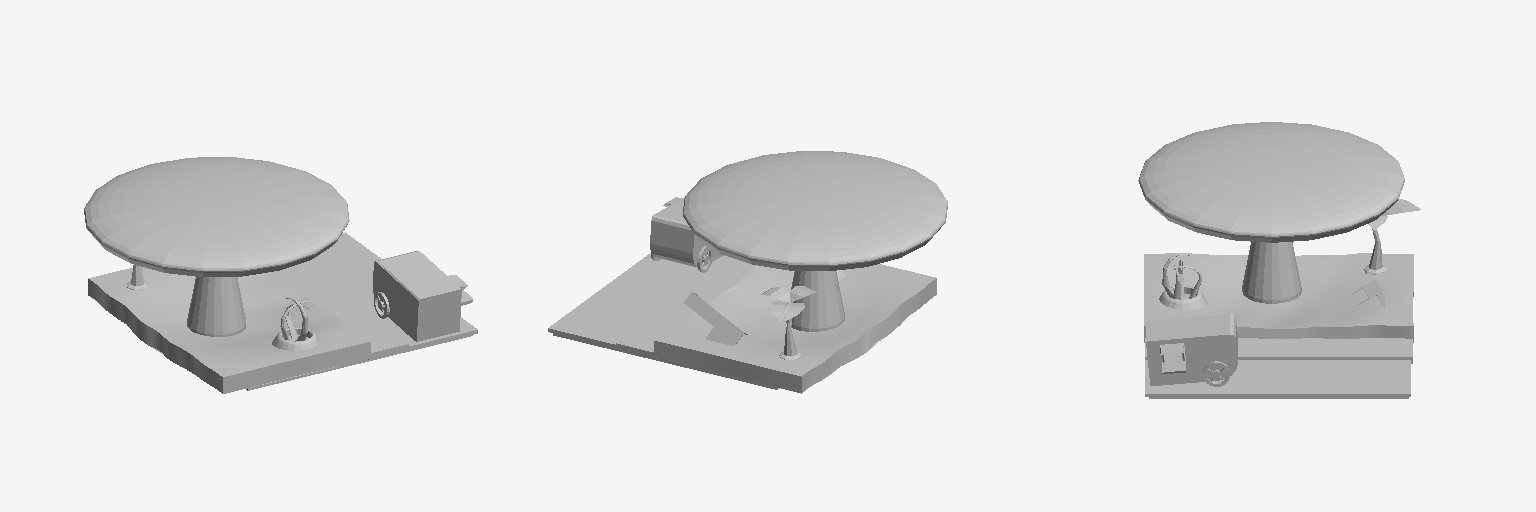
3 renders of one model, left to right at view 1: azimuth 30°, elevation 25°; view 2: azimuth 150°, elevation 25°; view 3: azimuth 270°, elevation 25°, orthographic.
Parts seen in each view (by area): view 1: bigmushroomfinalys:pCylinder2, pPlane1, CamperFInalYS:pCube2, pasted__pCube2 group, pCube2, TENTACLEFINALYS:pCylinder2; view 2: bigmushroomfinalys:pCylinder2, pPlane1, pasted__pCube2 group, pCube2, CamperFInalYS:pCube2, Bigleaftreefinal:pCylinder2, FINALSCENETABLE:pCube1, pCube1; view 3: bigmushroomfinalys:pCylinder2, pPlane1, pasted__pCube2 group, CamperFInalYS:pCube2, pCube2, Bigleaftreefinal:pCylinder2, TENTACLEFINALYS:pCylinder2.
Part boxes in pixels (bbox=[...]): bigmushroomfinalys:pCylinder2: bbox=[84, 157, 349, 336]; pPlane1: bbox=[88, 267, 370, 393]; CamperFInalYS:pCube2: bbox=[373, 251, 473, 341]; pasted__pCube2 group: bbox=[301, 232, 477, 350]; pCube2: bbox=[275, 264, 408, 359]; TENTACLEFINALYS:pCylinder2: bbox=[272, 328, 319, 350]; bigmushroomfinalys:pCylinder2: bbox=[683, 151, 947, 331]; pPlane1: bbox=[654, 264, 936, 393]; pasted__pCube2 group: bbox=[548, 253, 730, 348]; pCube2: bbox=[616, 258, 757, 358]; CamperFInalYS:pCube2: bbox=[650, 197, 723, 272]; Bigleaftreefinal:pCylinder2: bbox=[761, 286, 816, 359]; FINALSCENETABLE:pCube1: bbox=[684, 292, 747, 345]; pCube1: bbox=[553, 333, 779, 389]; bigmushroomfinalys:pCylinder2: bbox=[1138, 122, 1404, 303]; pPlane1: bbox=[1144, 253, 1413, 342]; pasted__pCube2 group: bbox=[1145, 360, 1410, 396]; CamperFInalYS:pCube2: bbox=[1146, 314, 1237, 386]; pCube2: bbox=[1145, 338, 1412, 363]; Bigleaftreefinal:pCylinder2: bbox=[1364, 199, 1420, 274]; TENTACLEFINALYS:pCylinder2: bbox=[1159, 286, 1207, 309].
Bounding box in the file's own units: 34.03 × 14.73 × 26.26.